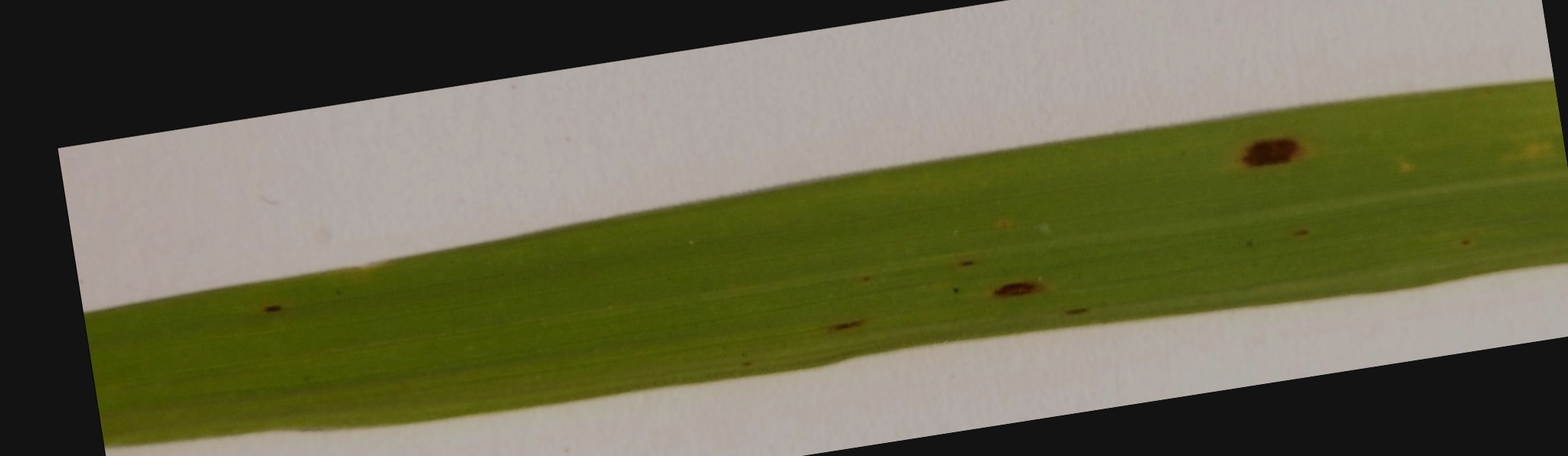Bacterial_Leaf_Blight: (1225, 118, 1306, 179), (806, 296, 897, 339), (990, 257, 1053, 312), (245, 282, 297, 323)
